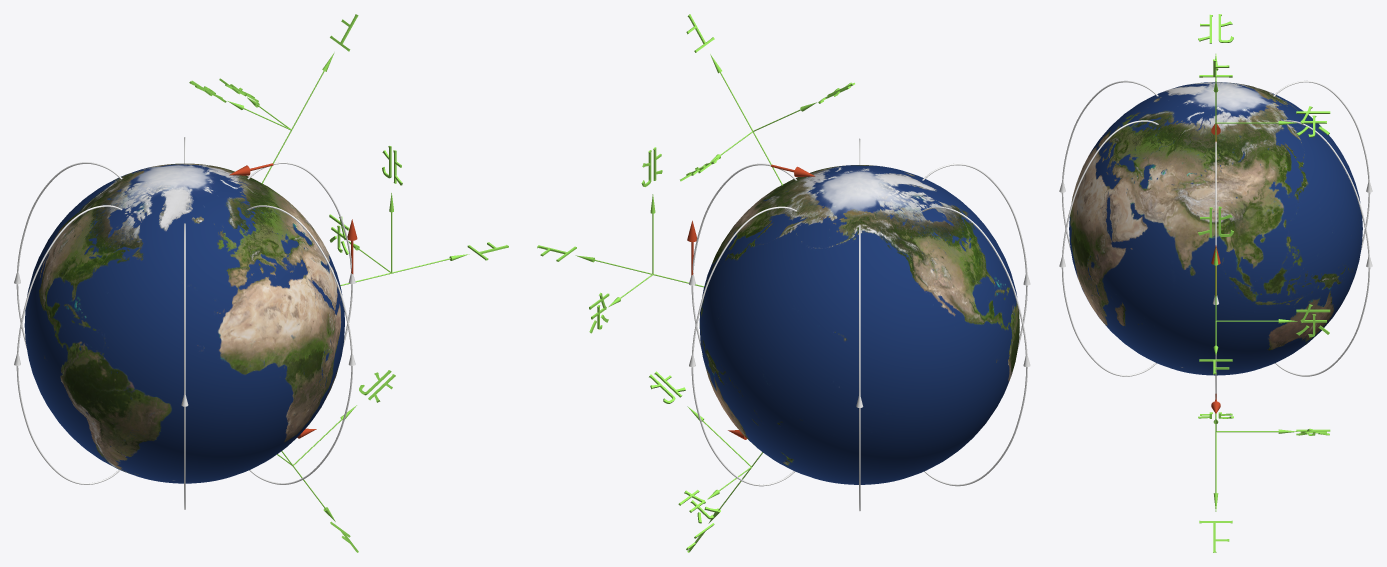
File: car.glb
3 renders of one model, left to right at view 1: azimuth 30°, elevation 25°; view 2: azimuth 150°, elevation 25°; view 3: azimuth 270°, elevation 25°, orthographic. The views are drawn at different scales.
Parts seen in each view (by area): view 1: 地球, 磁感线, 方向标架; view 2: 地球, 方向标架, 磁感线; view 3: 地球, 方向标架, 磁感线.
Part boxes in pixels (x1,y1,x2,y2): 地球: (24, 163, 344, 483); 磁感线: (14, 137, 355, 509); 方向标架: (189, 14, 508, 552); 地球: (699, 165, 1019, 484); 方向标架: (537, 14, 854, 552); 磁感线: (689, 138, 1030, 511); 地球: (1069, 82, 1362, 375); 方向标架: (1198, 14, 1330, 552); 磁感线: (1059, 80, 1372, 399).
Bounding box in the file's own units: 3.25 × 3.39 × 1.95.
4 materials, 1 textured.
